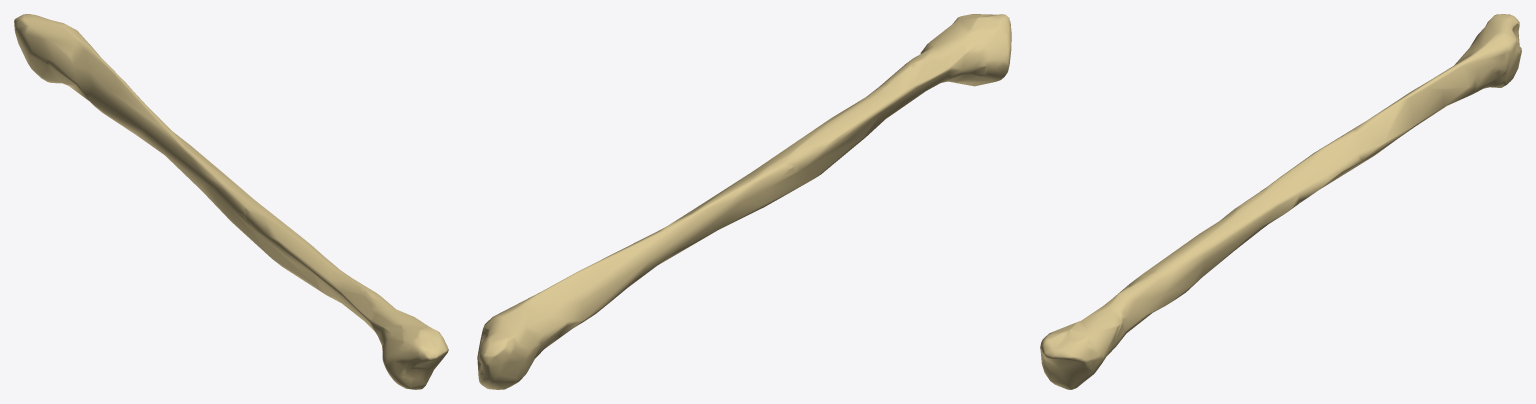
3 renders of one model, left to right at view 1: azimuth 30°, elevation 25°; view 2: azimuth 150°, elevation 25°; view 3: azimuth 330°, elevation 25°, orthographic. The views are drawn at different scales.
Parts seen in each view (by area): view 1: 右侧腓骨; view 2: 右侧腓骨; view 3: 右侧腓骨.
Part boxes in pixels (<box>): 右侧腓骨: <box>14,14,448,389</box>; 右侧腓骨: <box>477,14,1011,389</box>; 右侧腓骨: <box>1040,14,1521,389</box>.
Bounding box in the file's own units: 0.0534 × 0.0485 × 0.5341.
